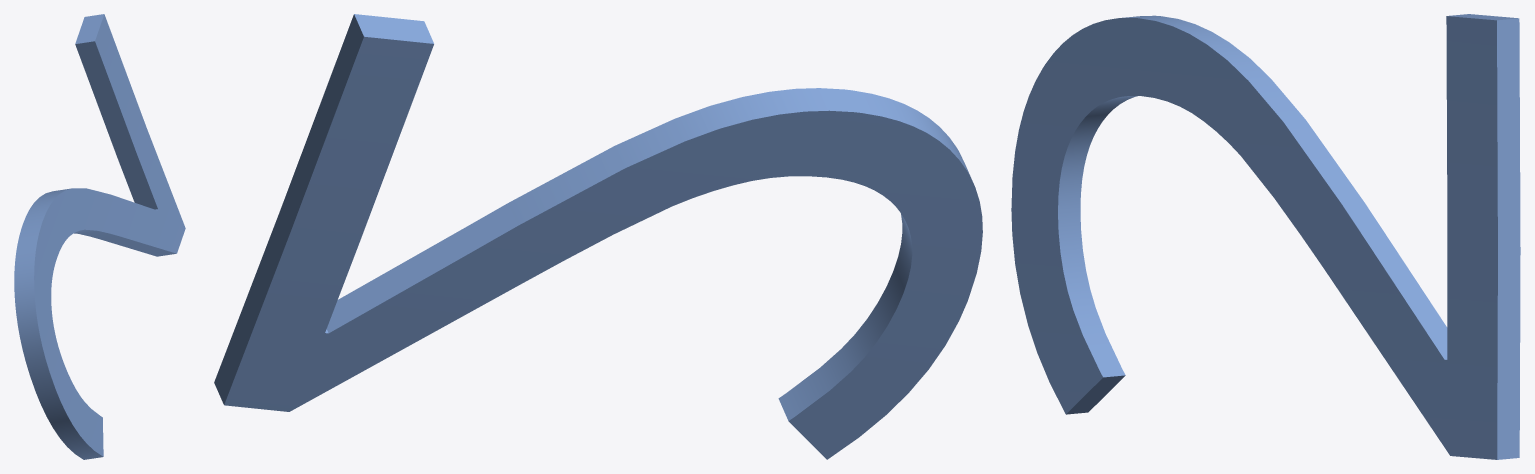
Rendered from New_Number_2.gltf.
The picture shows the model from 3 angles, left to right: view 1: azimuth 30°, elevation 25°; view 2: azimuth 150°, elevation 25°; view 3: azimuth 270°, elevation 25°; orthographic projection. The views are drawn at different scales.
Visible parts, largest first — view 1: Part 218; view 2: Part 218; view 3: Part 218.
Part boxes in pixels (left/top/right/bottom): Part 218: left=14, top=14, right=185, bottom=459; Part 218: left=214, top=14, right=982, bottom=459; Part 218: left=1011, top=14, right=1520, bottom=459.
Bounding box in the file's own units: 0.00426 × 0.0042 × 0.00382.
